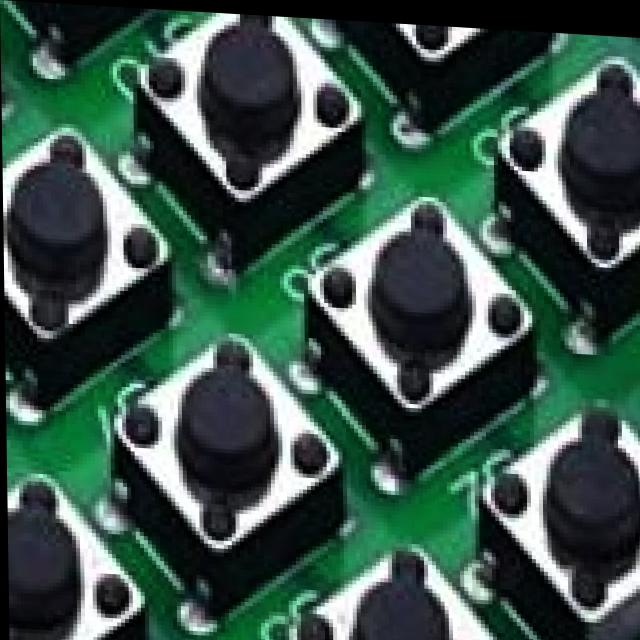connector: (524, 24, 640, 78)
switch: (310, 174, 514, 400), (136, 326, 320, 557), (1, 128, 164, 343), (508, 383, 640, 640), (160, 7, 338, 172), (508, 44, 640, 242), (298, 522, 507, 640), (5, 464, 127, 640), (356, 17, 528, 57)
